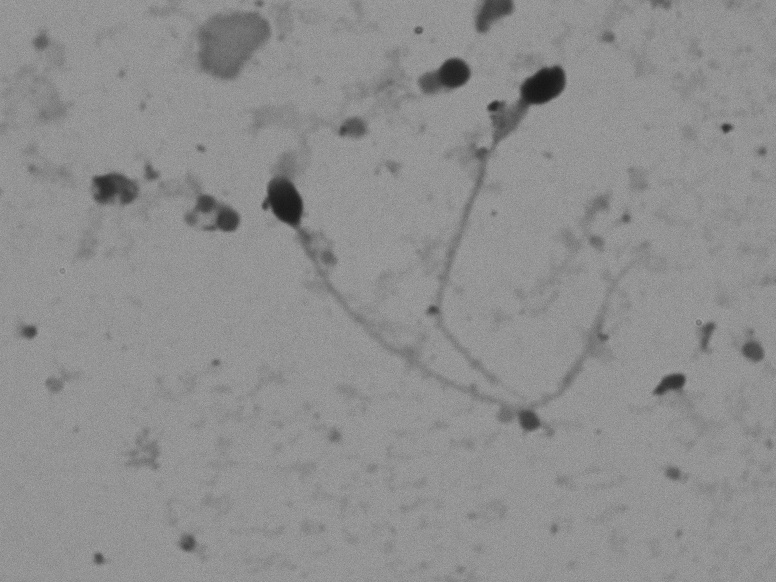Abnormal: (413, 59, 577, 398)
Normal: (253, 157, 667, 423)
